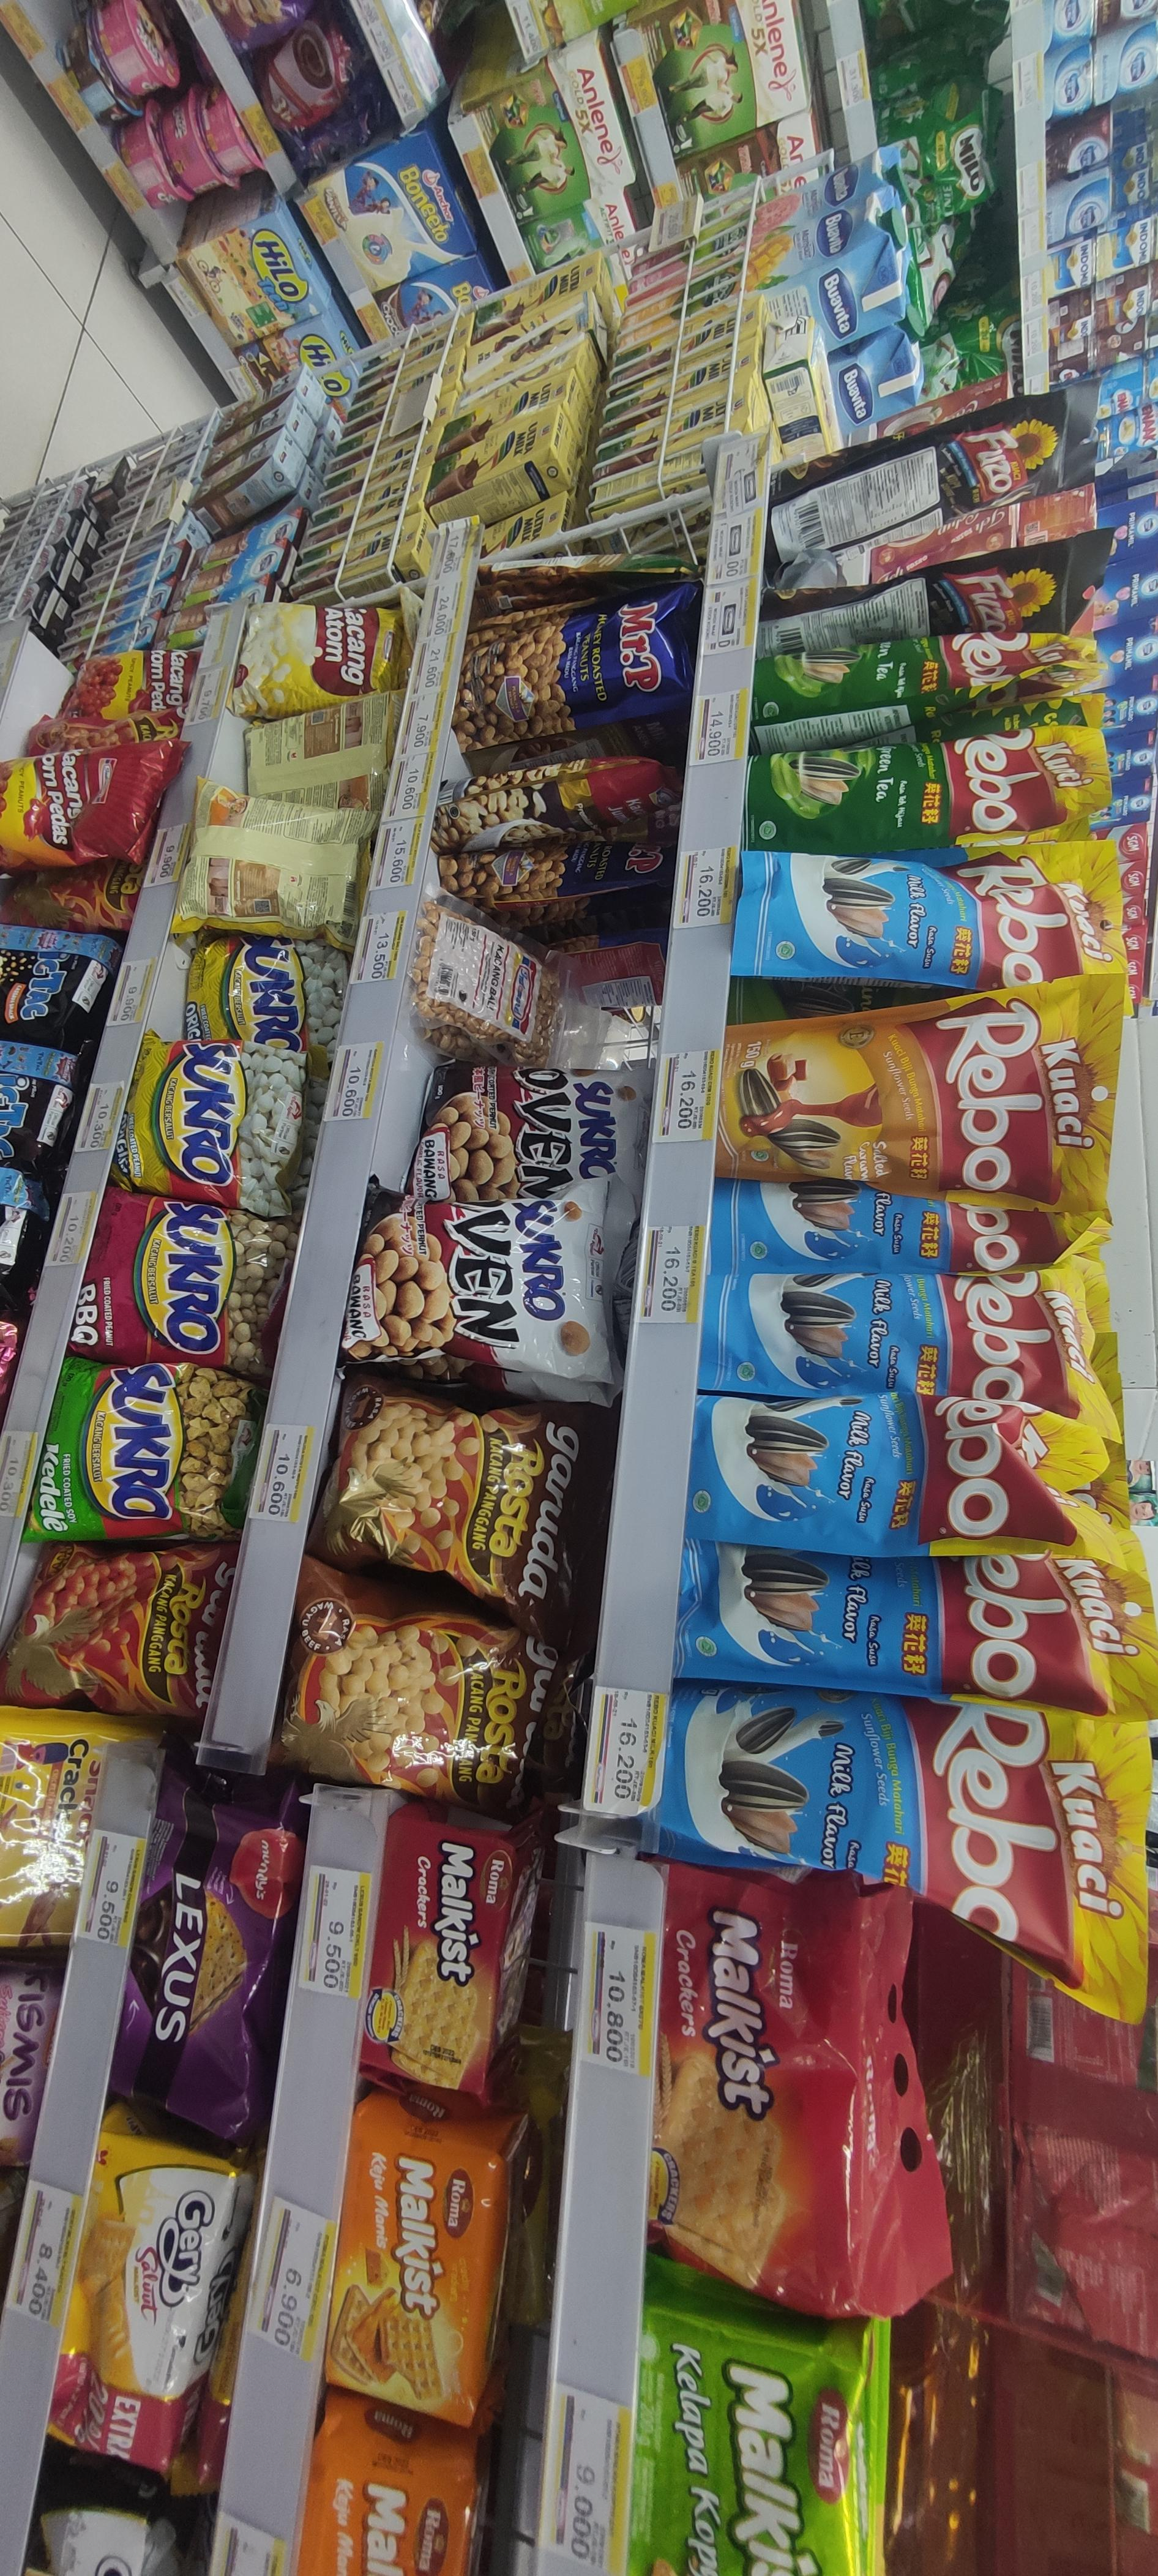90101111611100: (0, 1548, 232, 1722)
90101111615100: (292, 1597, 588, 1838), (320, 1385, 585, 1615)
90101225205101: (48, 2090, 250, 2479)
IndomaretKacangGoreng: (404, 877, 562, 1043)
KuaciReboCaramel: (698, 976, 1138, 1186)
KuaciReboMatchaTea: (742, 734, 1112, 838)
KuaciReboMilk: (626, 1669, 1135, 2040), (634, 1263, 1156, 1406), (631, 1548, 1148, 1671), (706, 1262, 1156, 1387), (739, 848, 1158, 971)
Lexus: (107, 1809, 292, 2078)
Mr.PPeanut: (439, 573, 698, 734)
RomaMalkistCrackers: (631, 1863, 966, 2326), (370, 1812, 565, 2108)
RomaMalkistKeju: (322, 2098, 532, 2436)
SukroBbq: (46, 1194, 299, 1352)
SukroKedele: (16, 1364, 269, 1541)
SukroOriginal: (95, 1033, 317, 1186), (176, 946, 352, 1037)
SukroOvenBawang: (358, 1178, 626, 1411), (416, 1058, 642, 1201)
